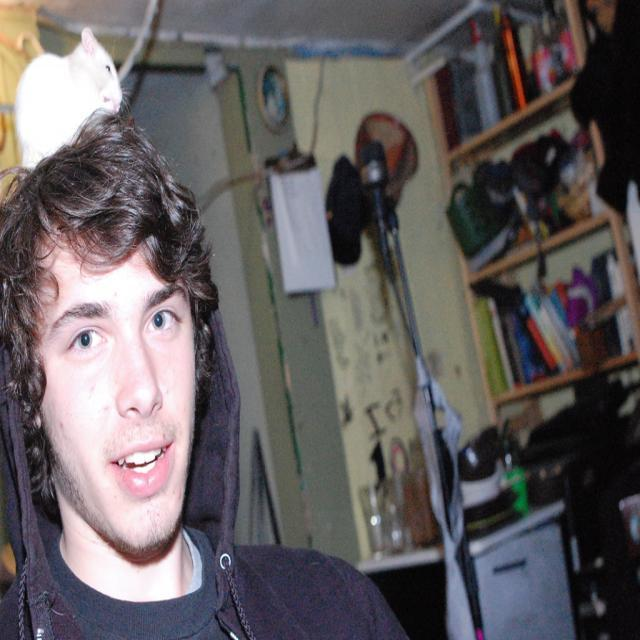rat: (14, 26, 125, 170)
